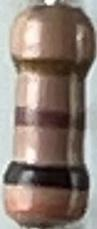Black: (3, 160, 90, 190)
Brown: (13, 106, 84, 130)
Orange: (4, 202, 87, 224)
Side-Gold: (13, 54, 93, 80)
